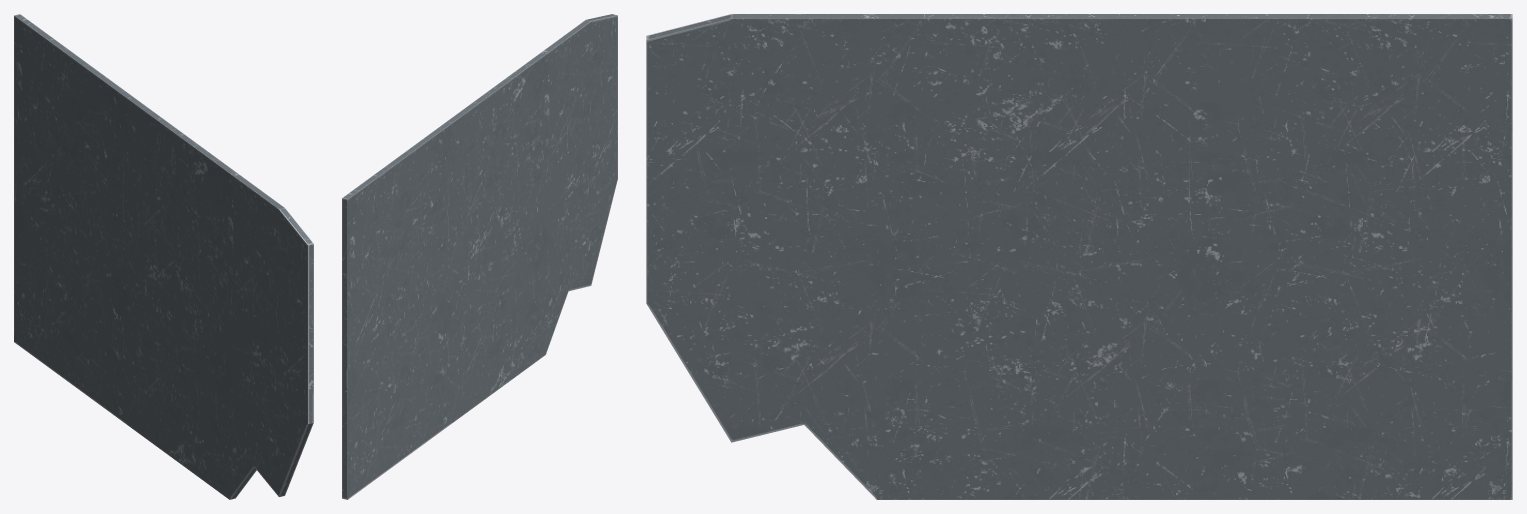
Rendered from B1_Grey.gltf.
The picture shows the model from 3 angles, left to right: view 1: azimuth 30°, elevation 25°; view 2: azimuth 150°, elevation 25°; view 3: azimuth 270°, elevation 25°; orthographic projection. The views are drawn at different scales.
Parts seen in each view (by area): view 1: Cube.005; view 2: Cube.005; view 3: Cube.005.
Part boxes in pixels (left/top/right/bottom): Cube.005: left=14, top=14, right=313, bottom=499; Cube.005: left=342, top=14, right=617, bottom=499; Cube.005: left=646, top=14, right=1512, bottom=499.
Bounding box in the file's own units: 0.037 × 1.93 × 3.15.
Materials: 1 (1 with a texture image).
